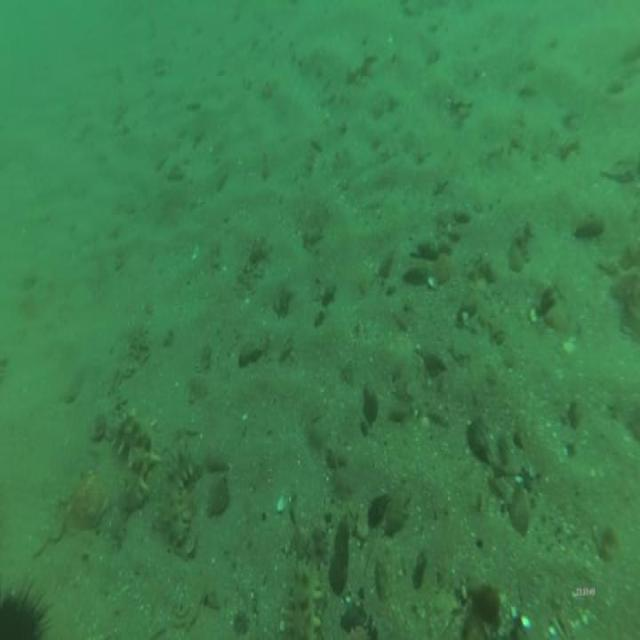echinus: (0, 570, 55, 638)
holothurian: (160, 441, 203, 553), (289, 534, 331, 640), (113, 404, 159, 486)
